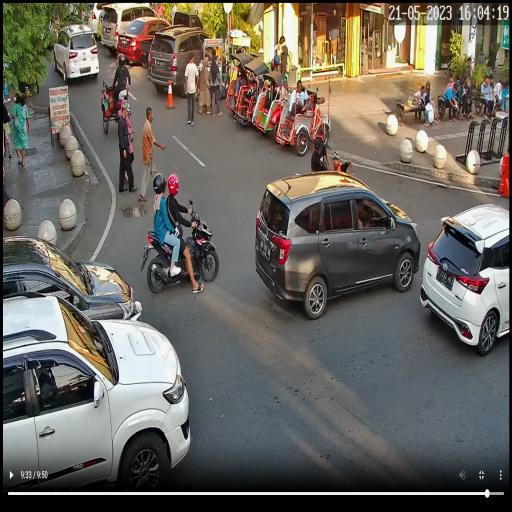mobil: (0, 284, 192, 494), (256, 173, 420, 319), (415, 173, 512, 354), (0, 224, 138, 342), (147, 22, 211, 104), (98, 3, 164, 59), (49, 20, 99, 84), (114, 10, 168, 68)
motor: (140, 198, 221, 294)
